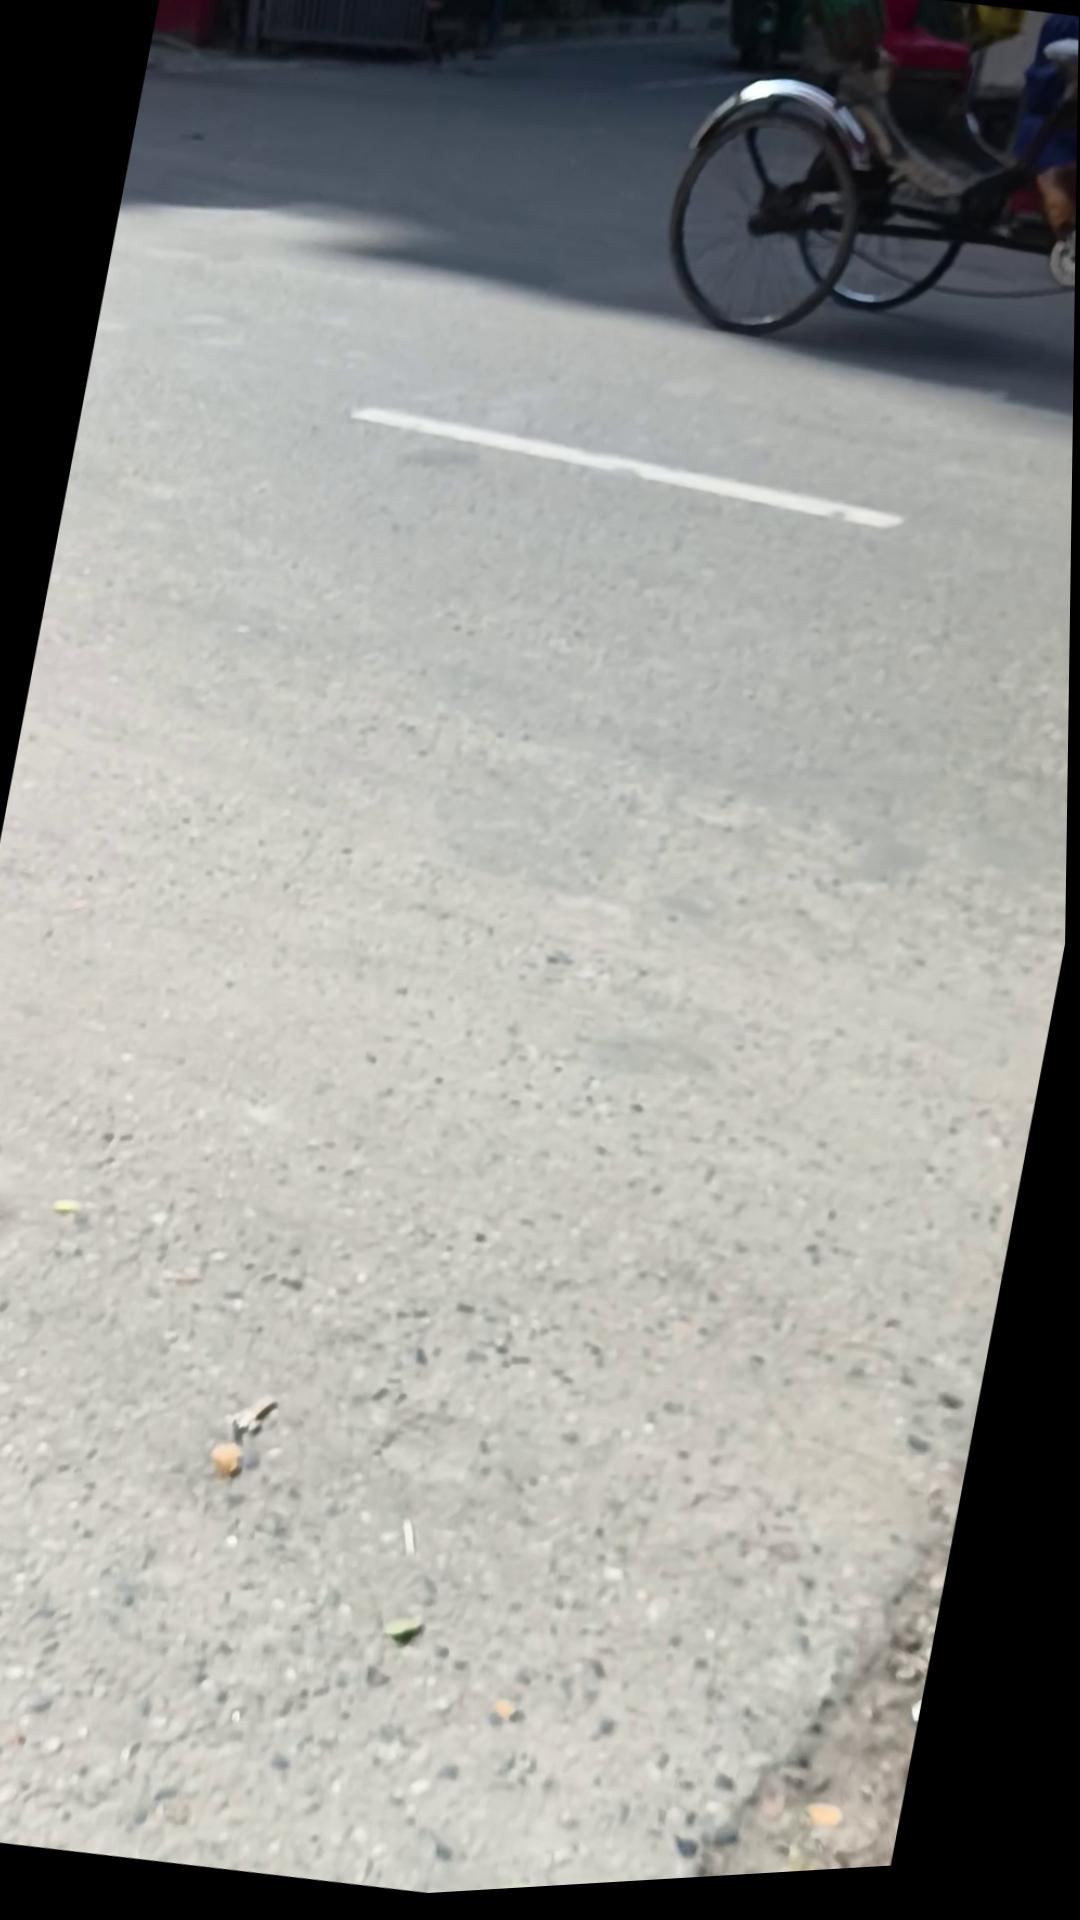Bench: (683, 1327, 993, 1887)
Broken-road: (146, 16, 413, 121), (480, 0, 732, 102)
Car: (225, 0, 454, 87)
Fence: (649, 0, 1080, 425)
